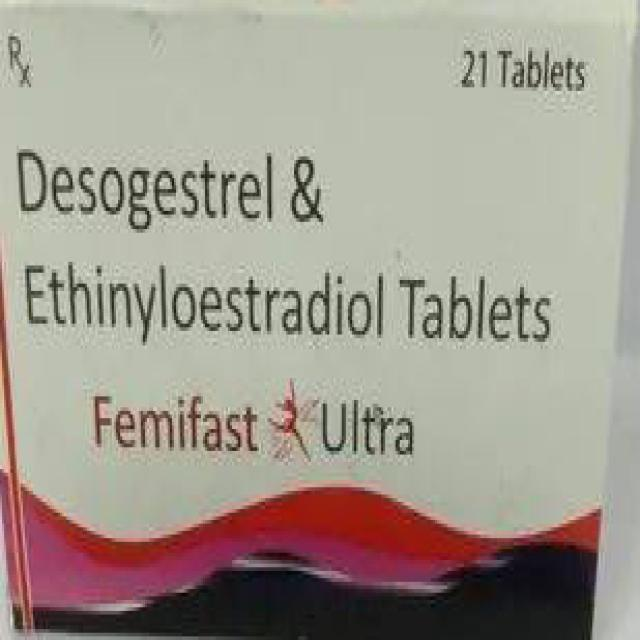drug-name: (84, 379, 418, 468)
